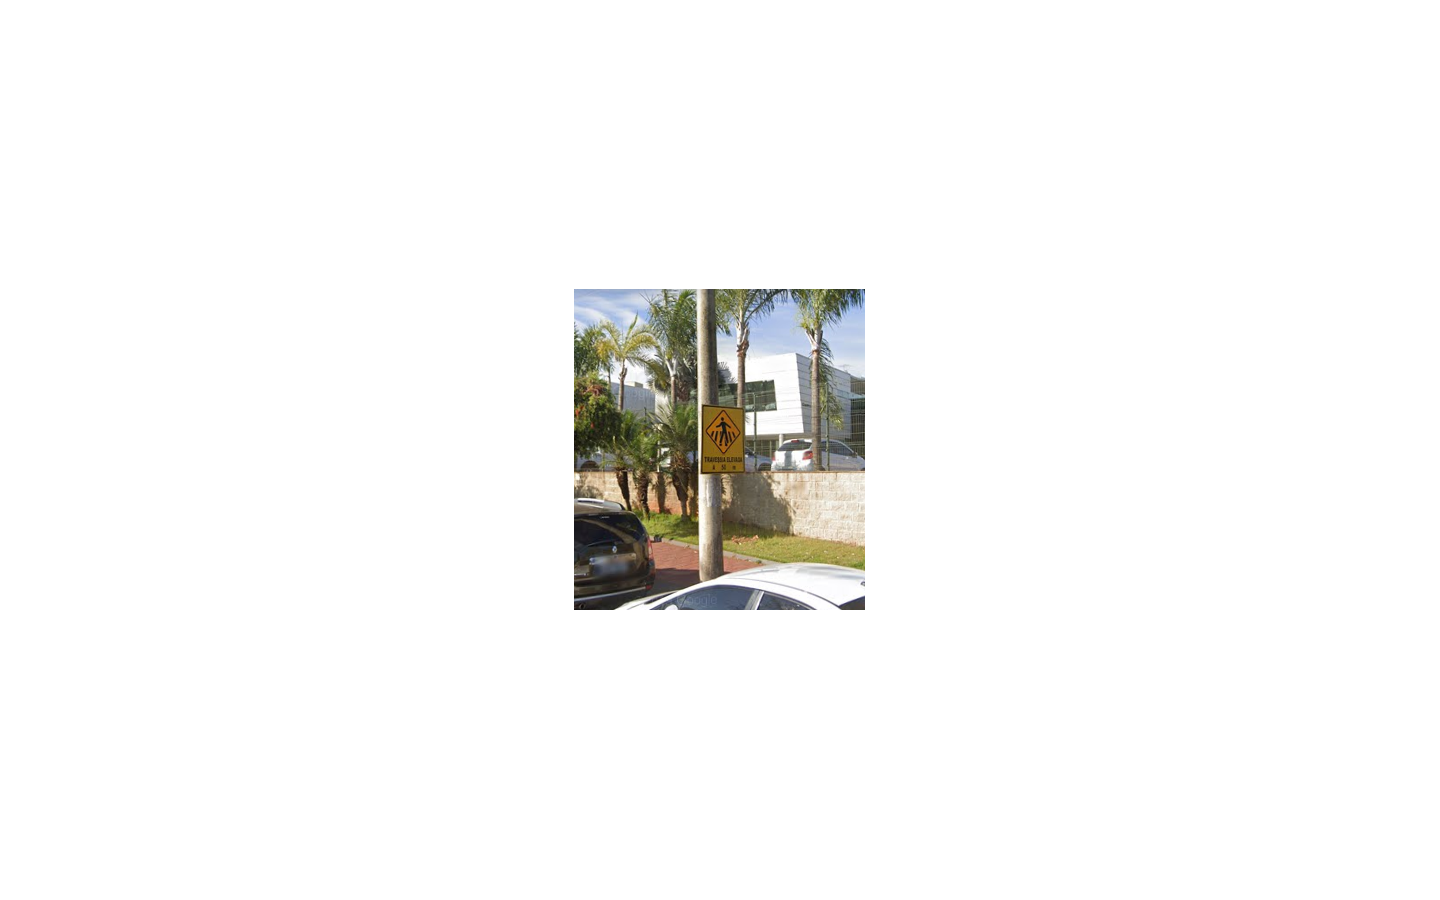t50m: (701, 404, 745, 474)
